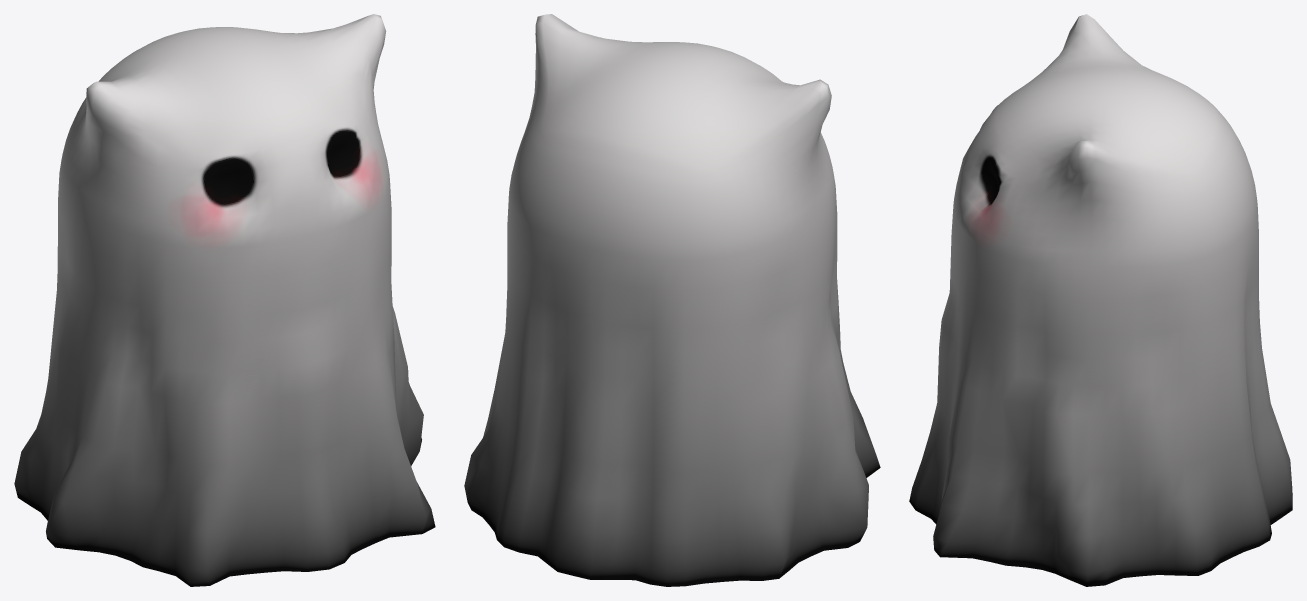
3 renders of one model, left to right at view 1: azimuth 30°, elevation 25°; view 2: azimuth 150°, elevation 25°; view 3: azimuth 270°, elevation 25°, orthographic. The views are drawn at different scales.
Visible parts, largest first — view 1: cat_B_geo; view 2: cat_B_geo; view 3: cat_B_geo.
Part boxes in pixels (x1,y1,x2,y2): cat_B_geo: (14,14,435,586); cat_B_geo: (464,14,880,586); cat_B_geo: (909,14,1292,586).
Size of the model in its own units: 3.63 by 4.2 by 3.42.
Materials: 1 (1 with a texture image).
